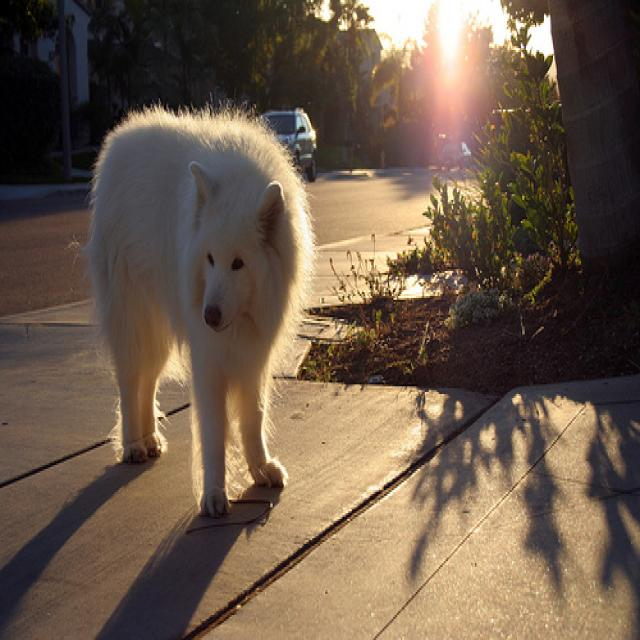dog-samoyed: (77, 90, 314, 527)
